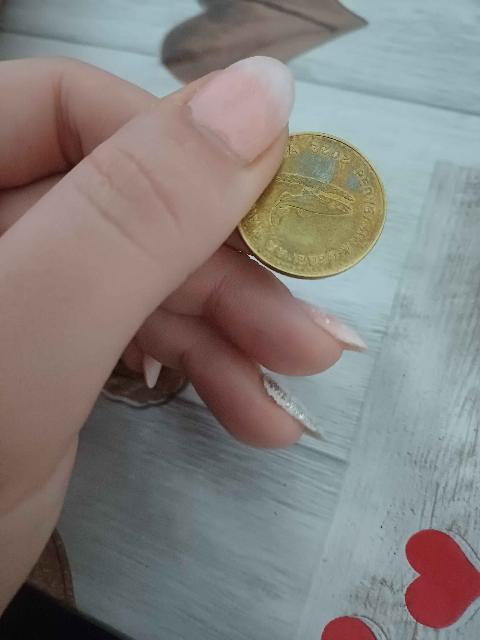2_coin: (239, 133, 385, 278)
